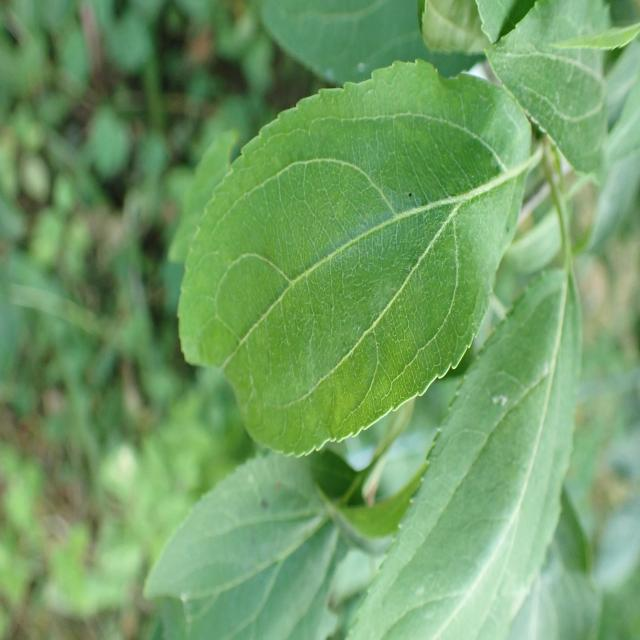healthy: (177, 60, 531, 457), (343, 266, 581, 640), (142, 451, 328, 637), (482, 0, 638, 183), (259, 0, 486, 85)
